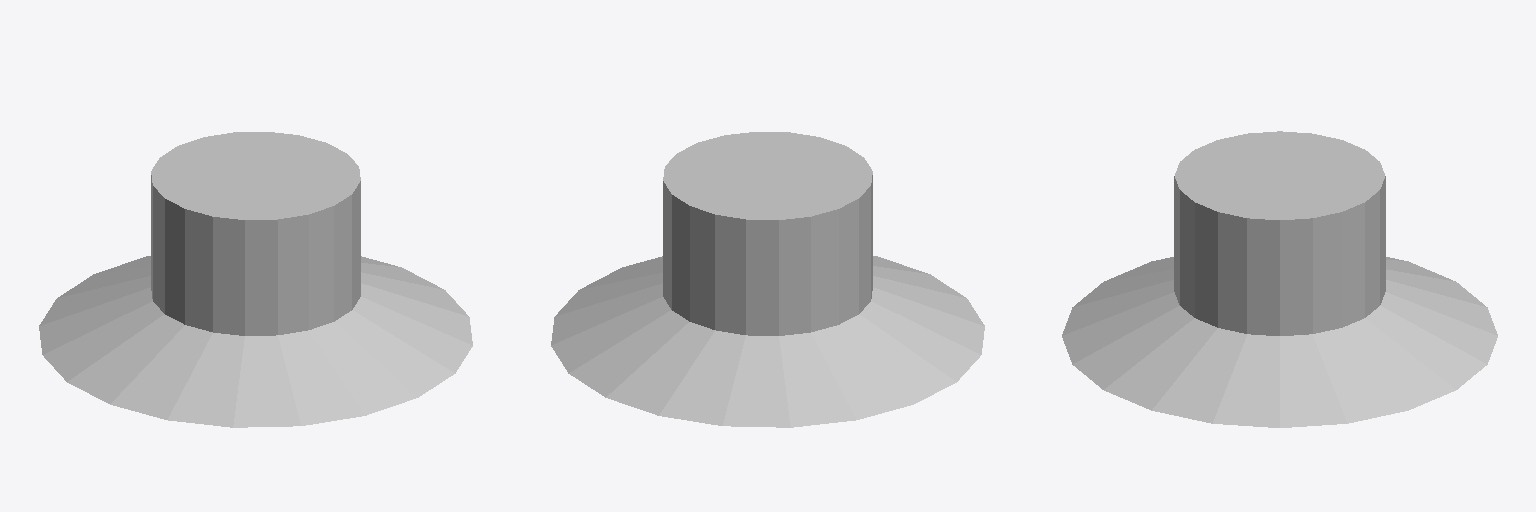
File: Study Knob.obj
The picture shows the model from 3 angles: view 1: azimuth 30°, elevation 25°; view 2: azimuth 150°, elevation 25°; view 3: azimuth 270°, elevation 25°; orthographic projection.
Visible parts, largest first — view 1: pCylinder2; view 2: pCylinder2; view 3: pCylinder2.
Part boxes in pixels (left/top/right/bottom): pCylinder2: left=39, top=132, right=472, bottom=427; pCylinder2: left=551, top=132, right=984, bottom=427; pCylinder2: left=1062, top=131, right=1497, bottom=427.
Size of the model in its own units: 4.14 by 1.67 by 4.14.